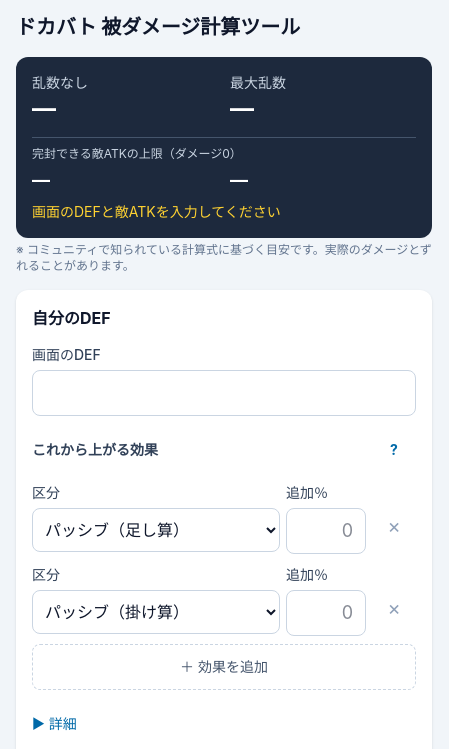
it: App（これから上がる効果） › 行を追加・削除でき、結果に即時反映される
Type "10000" into the field labelled "画面のDEF".
click(224, 393); type("10000")  # box [32,370,416,416]
(page scrolled)
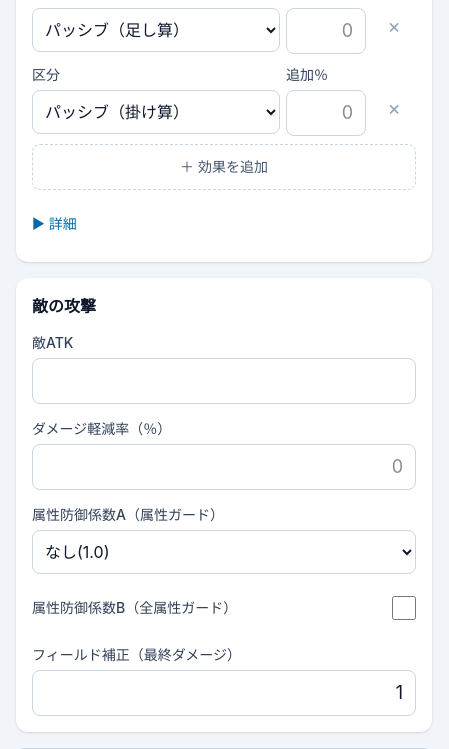
Type "100000" into the field labelled "敵ATK".
click(224, 381); type("100000")  # box [32,358,416,404]
(page scrolled)
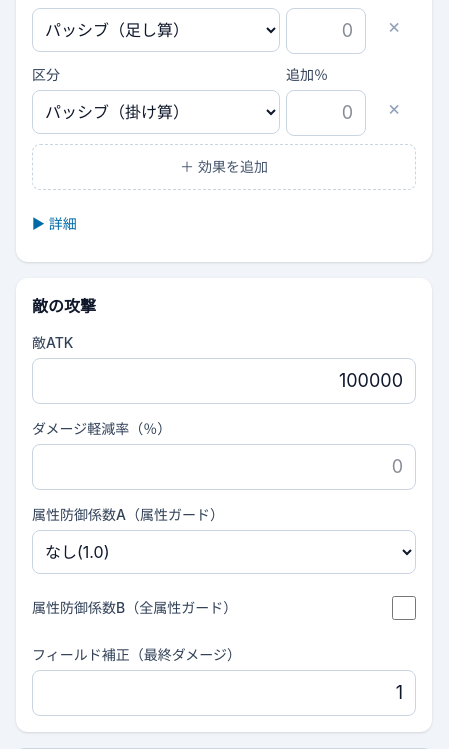
Click the button "＋ 効果を追加".
click(224, 167)  # box [32,144,416,190]
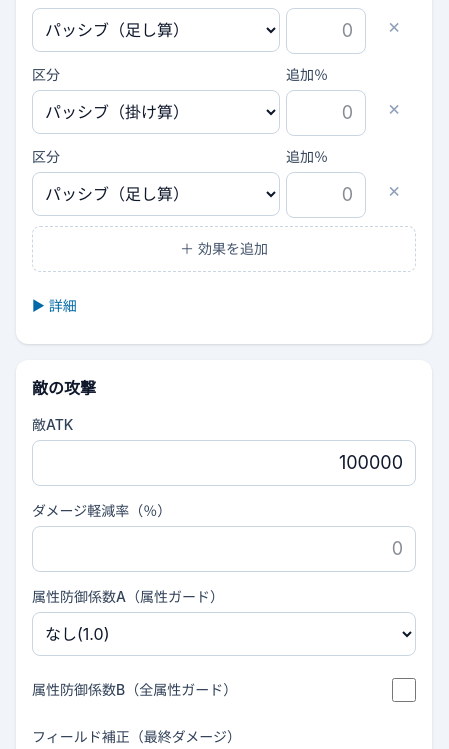
Expected: the number of dropdowns labelled "区分" is 3
Select "アクティブスキル" in the 3rd dropdown labelled "区分" at (156, 194), box [32,172,280,216]
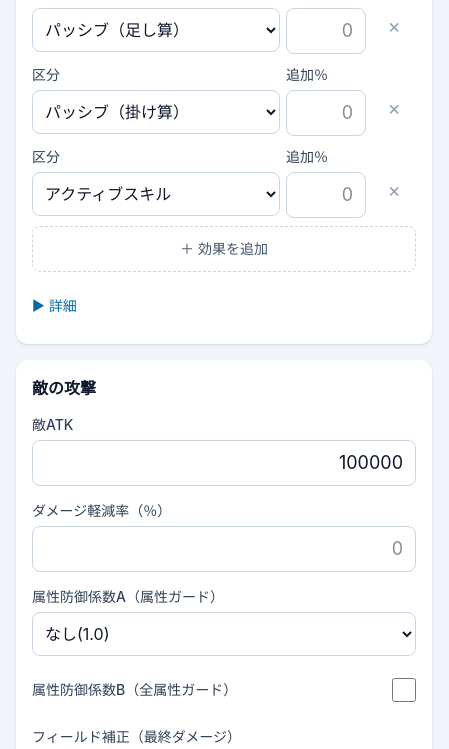
Type "50" into the 3rd field labelled "追加％".
click(326, 195); type("50")  # box [286,172,366,218]
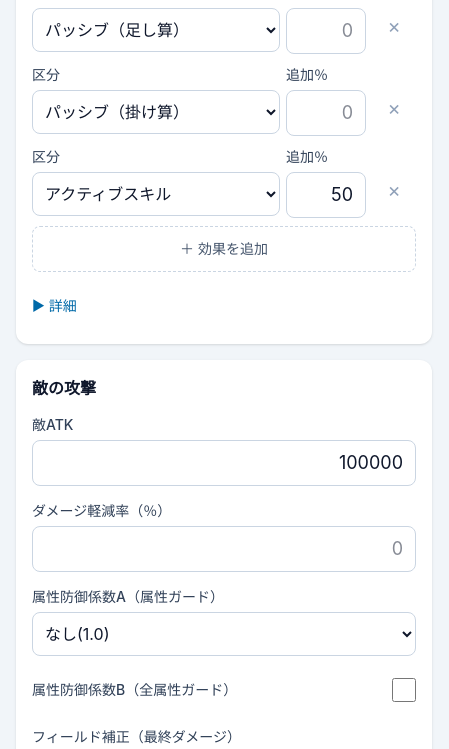
Click the button named "この行を削除".
click(394, 190)  # box [372,168,416,212]
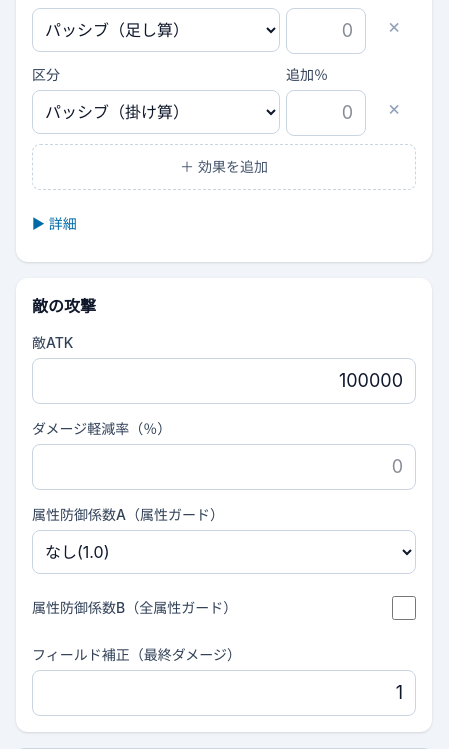
Expected: the number of dropdowns labelled "区分" is 2, [32,8,280,52]; [32,90,280,134]
